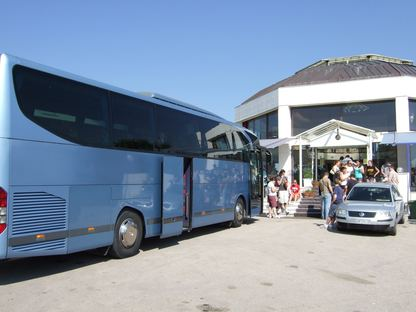bus: (0, 54, 273, 257)
car: (332, 178, 404, 234)
